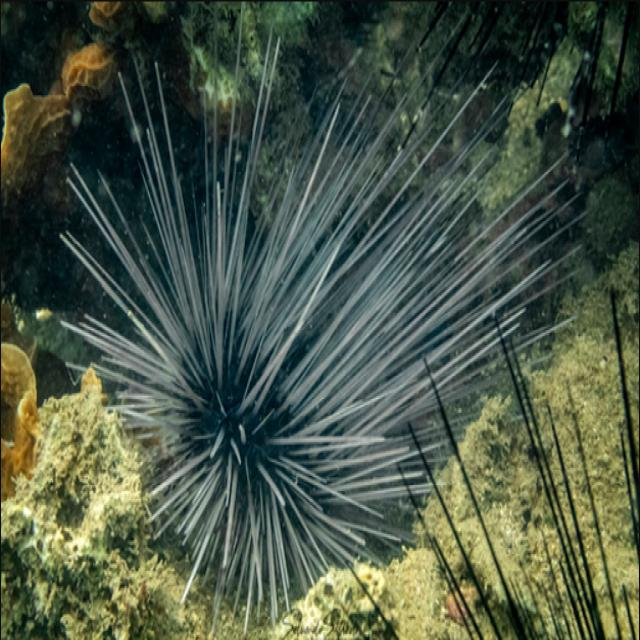Urchin: (67, 31, 595, 623)
